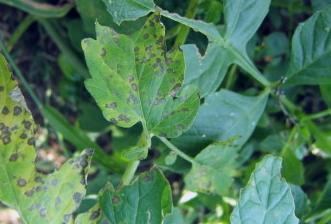Tomato Septoria leaf spot: (0, 15, 90, 224), (78, 12, 208, 142)
